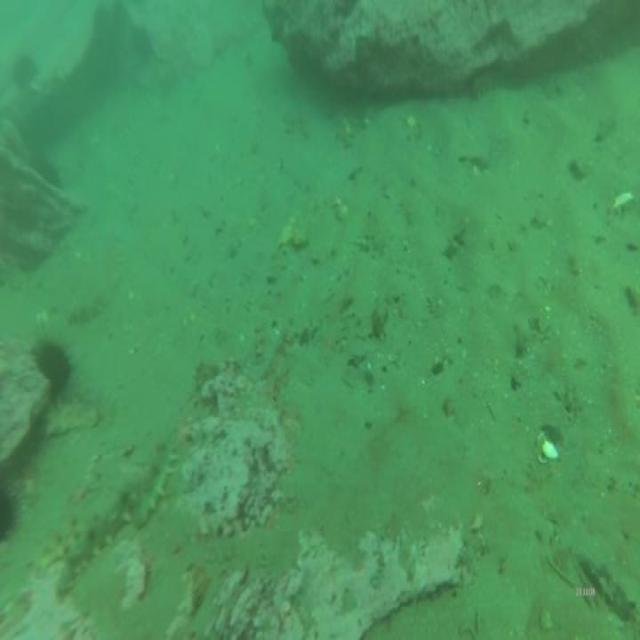echinus: (22, 326, 79, 396)
holothurian: (38, 477, 140, 588), (130, 436, 180, 526), (41, 397, 107, 441)
